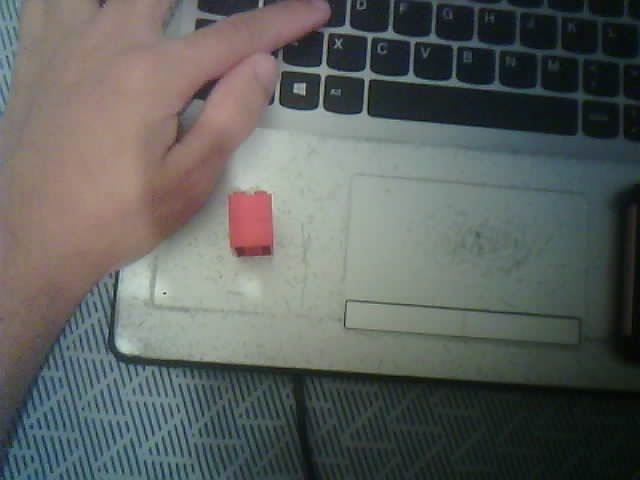lego: (227, 189, 274, 257)
